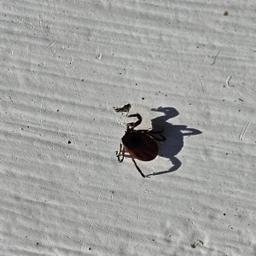Ixodes scapularis: (116, 114, 166, 179)
